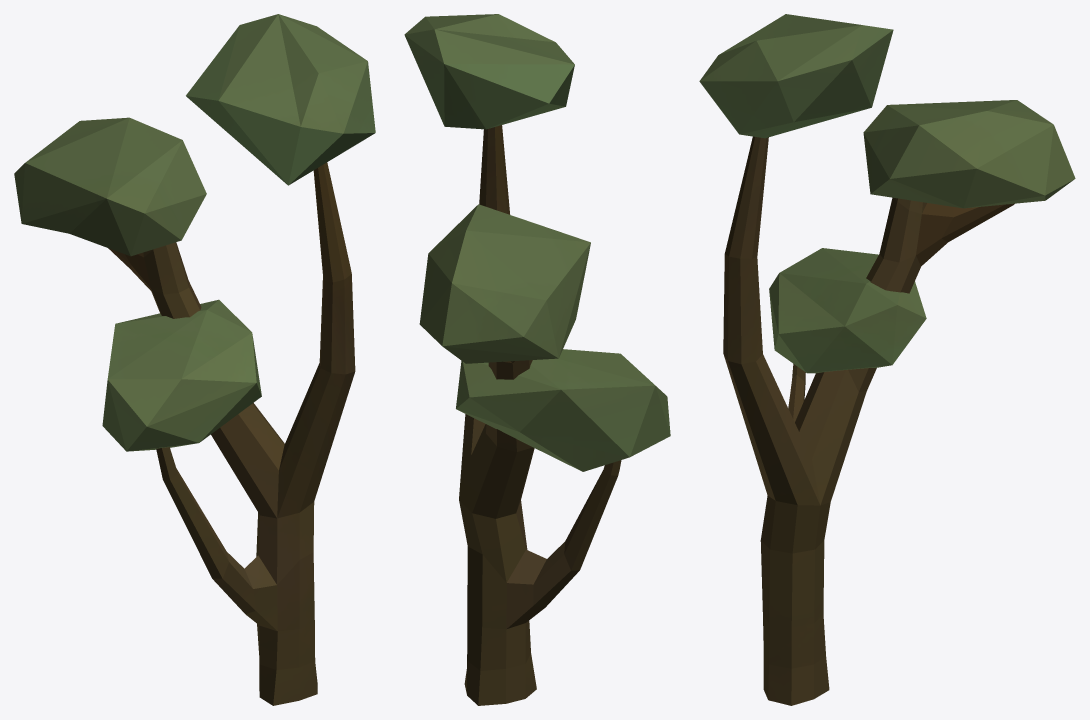
Rendered from Tree3Stage3.fbx.
3 renders of one model, left to right at view 1: azimuth 30°, elevation 25°; view 2: azimuth 150°, elevation 25°; view 3: azimuth 270°, elevation 25°, orthographic. The views are drawn at different scales.
Visible parts, largest first — view 1: Tree3Stage3; view 2: Tree3Stage3; view 3: Tree3Stage3.
Part boxes in pixels (x1,y1,x2,y2): Tree3Stage3: [14, 14, 375, 705]; Tree3Stage3: [404, 14, 670, 705]; Tree3Stage3: [699, 14, 1075, 705].
Bounding box in the file's own units: 90.88 × 235 × 118.
